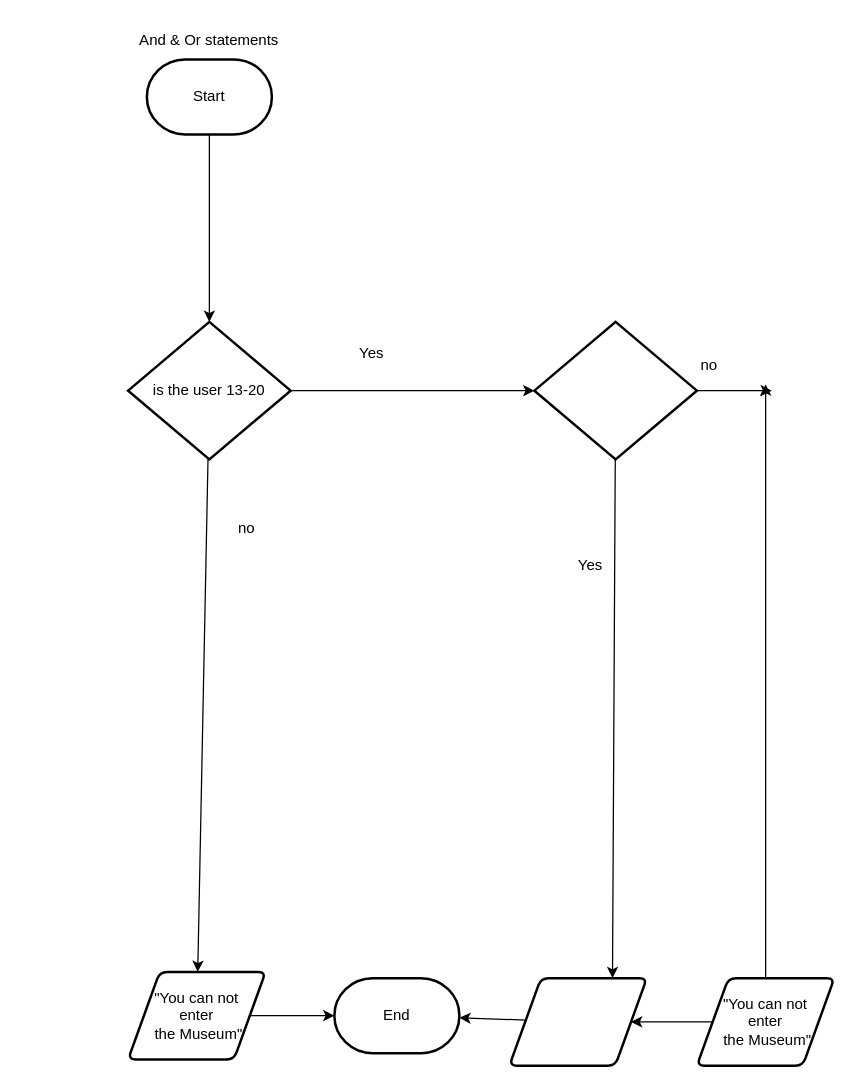
The diagram is 856 pixels wide and 1088 high, and some of its shapes have lost their labels. The shapes that lost their labels are listed below. From the top down, each one's centre as x and y in pixels, then its label:
point 615,390: Is it tuesday or thursday
point 578,1021: "You can enter the Museum"
